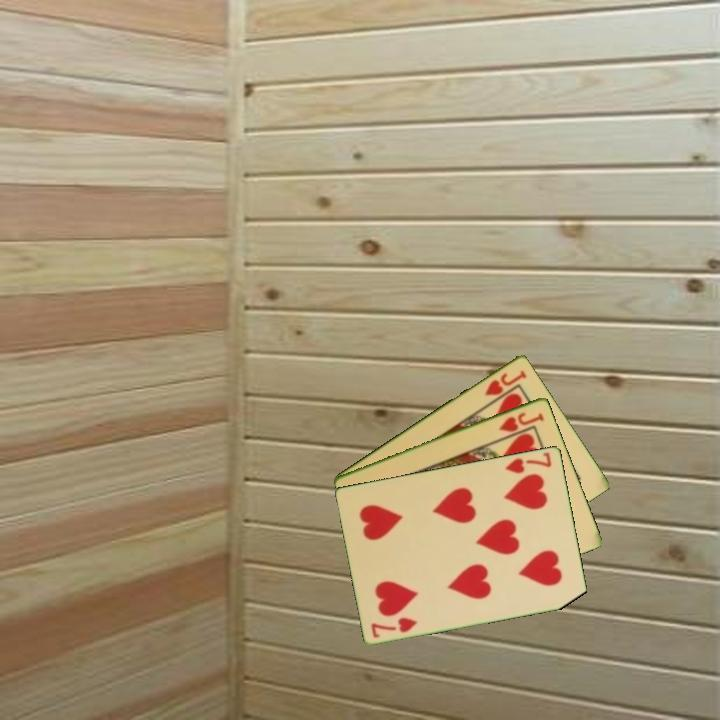7h: (501, 448, 555, 476), (368, 613, 420, 640)
Jh: (481, 366, 530, 398), (495, 408, 547, 435)
